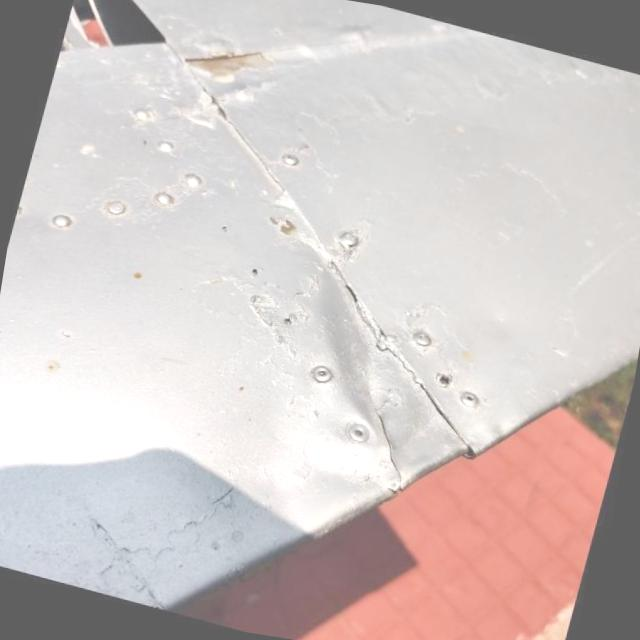Missing Fastener: (428, 367, 458, 393)
